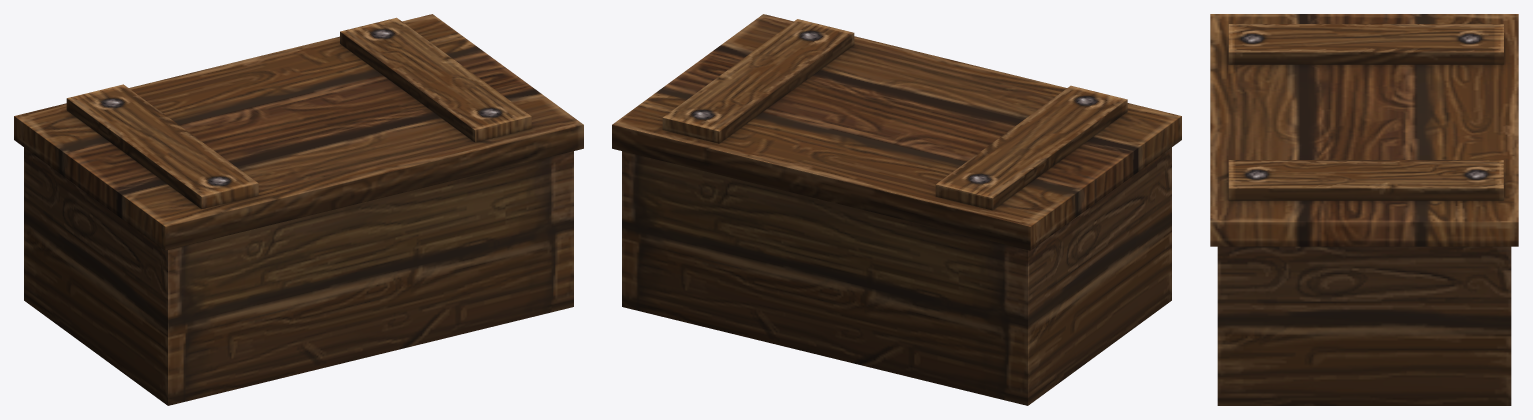
The model's file is Prop_Chest2.fbx.
3 renders of one model, left to right at view 1: azimuth 30°, elevation 25°; view 2: azimuth 150°, elevation 25°; view 3: azimuth 270°, elevation 25°, orthographic.
Parts seen in each view (by area): view 1: polySurface578; view 2: polySurface578; view 3: polySurface578.
Part boxes in pixels (box(x1,y1,x2,y2)): polySurface578: box(14, 14, 583, 405); polySurface578: box(612, 14, 1181, 405); polySurface578: box(1210, 14, 1518, 405).
Size of the model in its own units: 1.45 by 0.6475 by 0.9089.
1 material, 1 textured.
